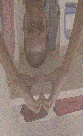hand: (8, 73, 42, 115), (42, 67, 66, 118)
